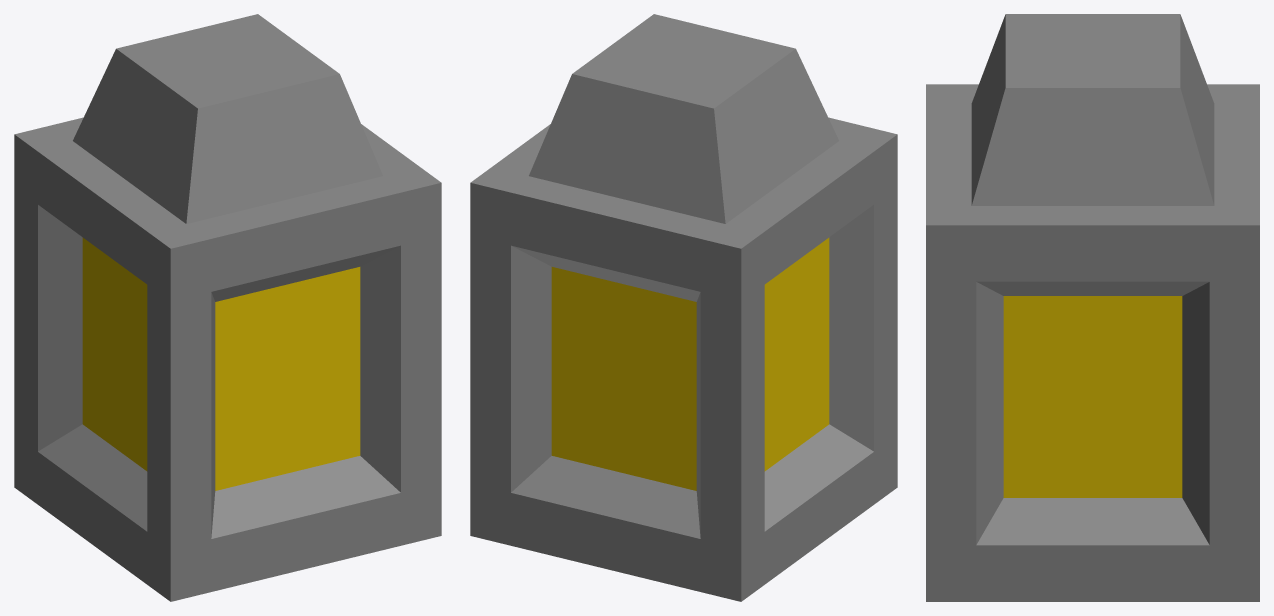
The model's file is lantern.fbx.
3 views of the same model, side by side, from view 1: azimuth 30°, elevation 25°; view 2: azimuth 150°, elevation 25°; view 3: azimuth 270°, elevation 25° (orthographic). The views are drawn at different scales.
Parts seen in each view (by area): view 1: Cube.001; view 2: Cube.001; view 3: Cube.001.
Part boxes in pixels (x1,y1,x2,y2): Cube.001: (14,14,441,601); Cube.001: (470,14,897,601); Cube.001: (926,14,1259,601).
Size of the model in its own units: 125 by 199 by 125.
